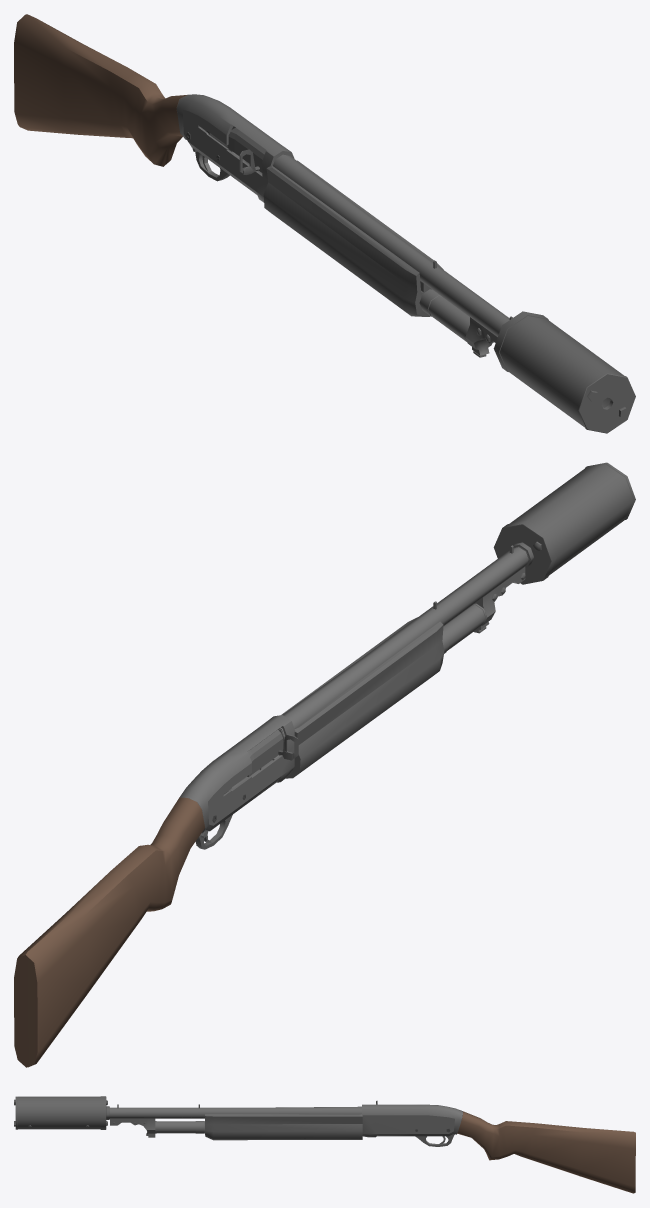
3 renders of one model, top to bottom at view 1: azimuth 30°, elevation 25°; view 2: azimuth 150°, elevation 25°; view 3: azimuth 270°, elevation 25°, orthographic. The views are drawn at different scales.
Visible parts, largest first — view 1: Stock_Wood, Muzzle_4_CAN_Supressor, Front_Grip_Semi_Plastic, Barrel_1, Model_11_87_Semi, Ammo_Tube_7_R, Breach_Bolt_2_Auto, Bar_2_Tube_1; view 2: Stock_Wood, Muzzle_4_CAN_Supressor, Front_Grip_Semi_Plastic, Barrel_1, Model_11_87_Semi, Ammo_Tube_7_R, Breach_Bolt_2_Auto; view 3: Stock_Wood, Front_Grip_Semi_Plastic, Model_11_87_Semi, Muzzle_4_CAN_Supressor, Barrel_1, Ammo_Tube_7_R, Bar_2_Tube_1, Trigger_Guard_2_Semi.
Boxes of the visible parts, x1=… form: Stock_Wood: x1=14, y1=14, x2=186, y2=166; Muzzle_4_CAN_Supressor: x1=493, y1=311, x2=635, y2=433; Front_Grip_Semi_Plastic: x1=263, y1=160, x2=443, y2=316; Barrel_1: x1=273, y1=154, x2=512, y2=336; Model_11_87_Semi: x1=176, y1=94, x2=294, y2=202; Ammo_Tube_7_R: x1=421, y1=293, x2=469, y2=343; Breach_Bolt_2_Auto: x1=227, y1=128, x2=266, y2=172; Bar_2_Tube_1: x1=465, y1=317, x2=497, y2=357; Stock_Wood: x1=14, y1=797, x2=204, y2=1067; Muzzle_4_CAN_Supressor: x1=493, y1=462, x2=635, y2=584; Front_Grip_Semi_Plastic: x1=281, y1=617, x2=444, y2=778; Barrel_1: x1=278, y1=545, x2=528, y2=742; Model_11_87_Semi: x1=179, y1=715, x2=294, y2=832; Ammo_Tube_7_R: x1=443, y1=603, x2=486, y2=650; Breach_Bolt_2_Auto: x1=247, y1=730, x2=283, y2=776; Stock_Wood: x1=457, y1=1111, x2=635, y2=1193; Front_Grip_Semi_Plastic: x1=205, y1=1114, x2=362, y2=1140; Model_11_87_Semi: x1=362, y1=1104, x2=462, y2=1137; Muzzle_4_CAN_Supressor: x1=14, y1=1096, x2=109, y2=1129; Barrel_1: x1=110, y1=1104, x2=361, y2=1118; Ammo_Tube_7_R: x1=155, y1=1121, x2=204, y2=1133; Bar_2_Tube_1: x1=110, y1=1118, x2=155, y2=1137; Trigger_Guard_2_Semi: x1=415, y1=1134, x2=456, y2=1146.
Bounding box in the file's own units: 7.33 × 21.74 × 127.
